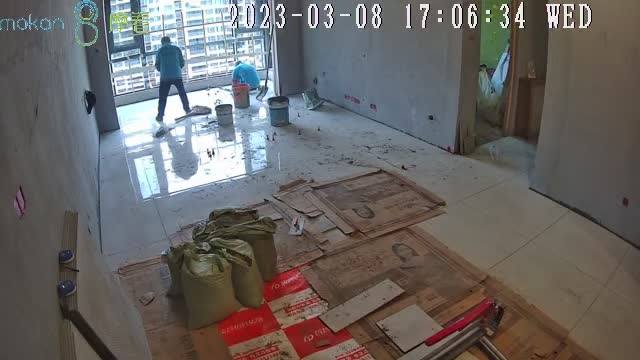people: (155, 36, 191, 121), (232, 59, 259, 90)
window: (105, 1, 269, 96)
